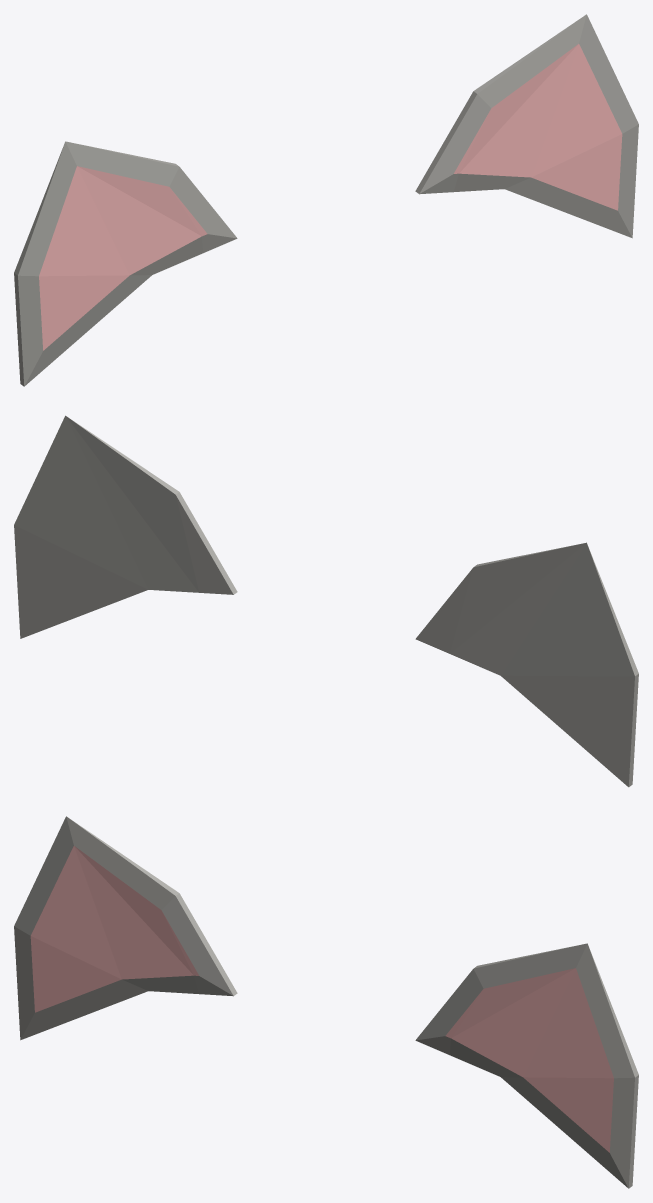
Rendered from Ears.fbx.
3 renders of one model, top to bottom at view 1: azimuth 30°, elevation 25°; view 2: azimuth 150°, elevation 25°; view 3: azimuth 330°, elevation 25°, orthographic.
Parts seen in each view (by area): view 1: Ears; view 2: Ears; view 3: Ears.
Boxes of the visible parts, x1,y1,x2,y2 form: Ears: (14,14,638,386); Ears: (14,415,638,787); Ears: (14,816,638,1188).
Bounding box in the file's own units: 95.01 × 34.07 × 1.62.
